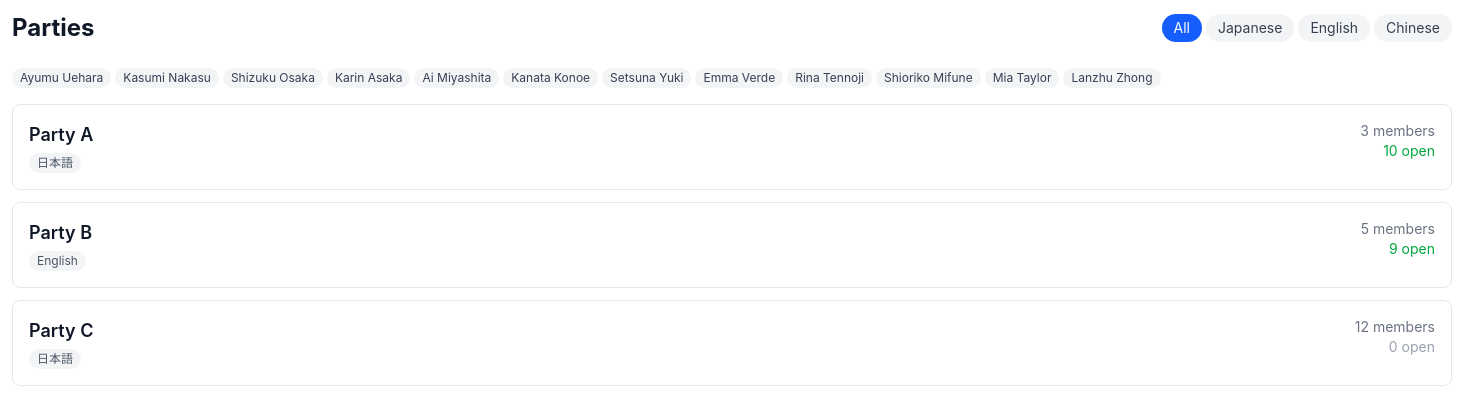
Test: PartyList — character filtering › combines language and character filters
The image size is (1464, 403).
Expected: the heading "Party A" is shown, x1=29 y1=121 x2=93 y2=149
Filter by Japanese language
Click the button "Japanese": {"x": 1250, "y": 28} x1=1206 y1=14 x2=1294 y2=42
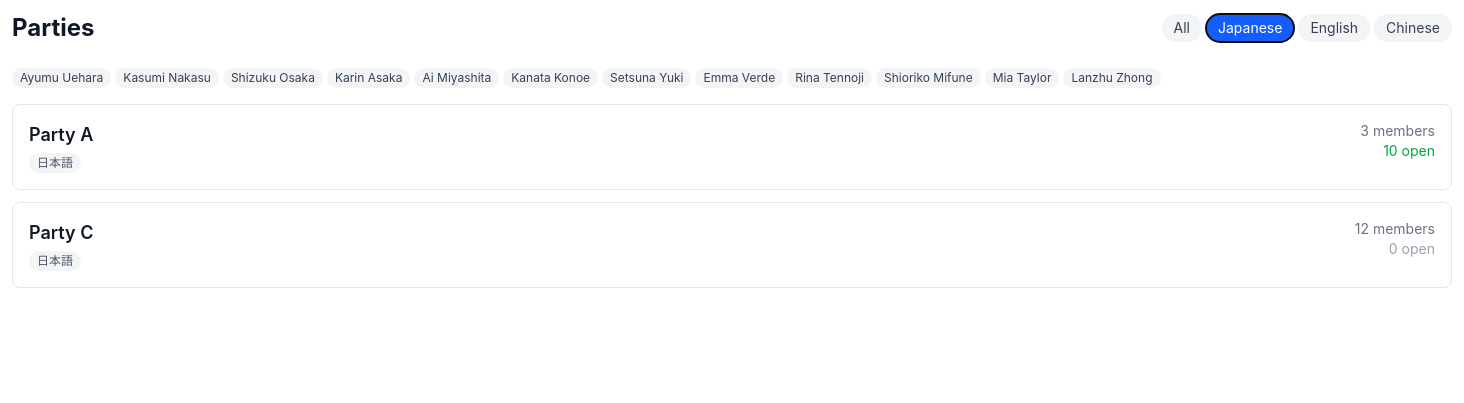
Expected: the link "Party B" is gone
Also filter by character 2 (Kasumi) — open in Party A, claimed in Party C
Click the button "Kasumi Nakasu": {"x": 167, "y": 78} x1=115 y1=68 x2=219 y2=88
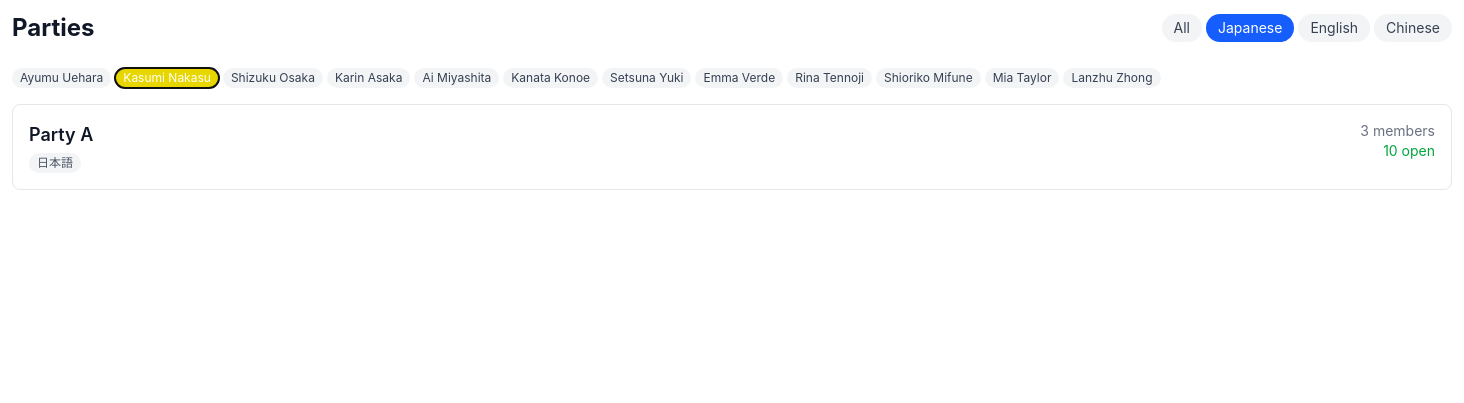
Expected: the heading "Party A" is shown, x1=29 y1=121 x2=93 y2=149
Expected: the link "Party C" is gone
